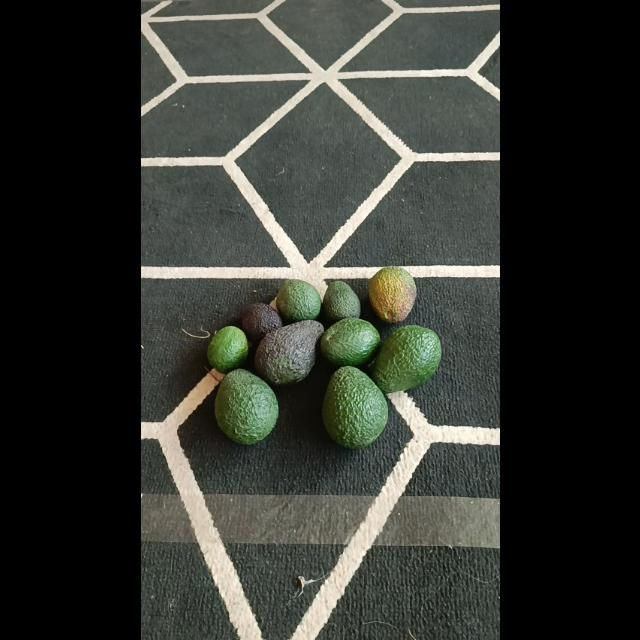Primera: (321, 366, 387, 446), (212, 368, 278, 444), (371, 324, 442, 394), (253, 320, 324, 386)
Segunda: (319, 318, 381, 368), (366, 266, 416, 322), (274, 278, 320, 322)
Tercera: (204, 324, 248, 374), (320, 280, 360, 322), (240, 302, 280, 343)
